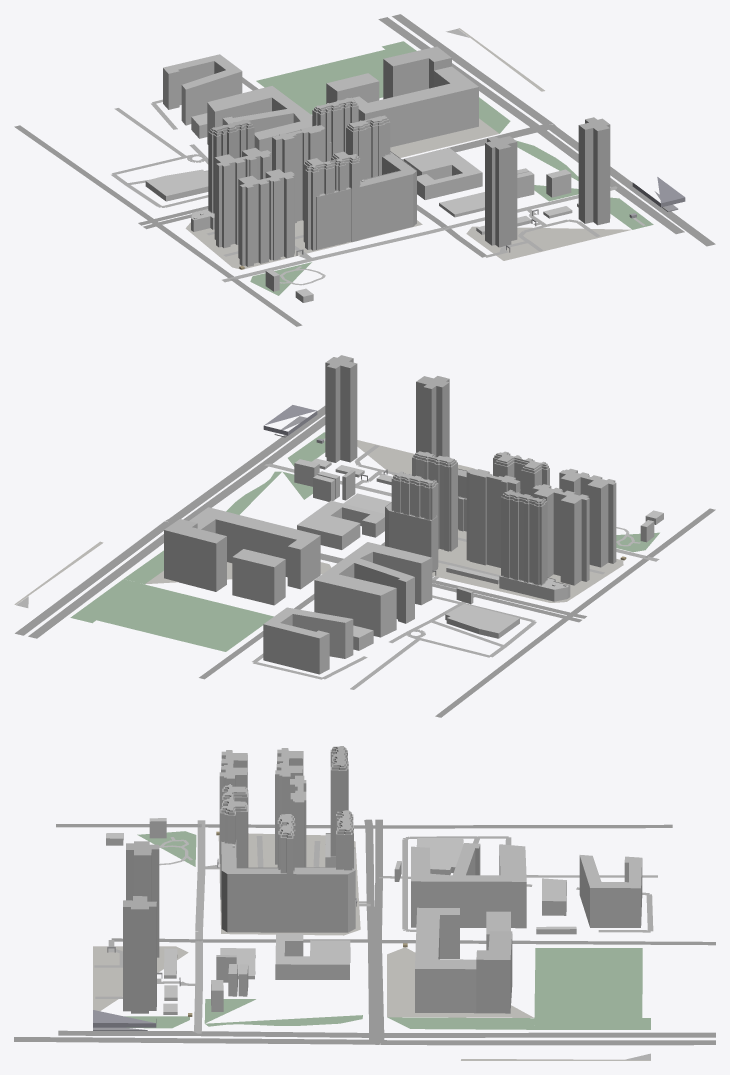
3 views of the same model, one above another, from view 1: azimuth 30°, elevation 25°; view 2: azimuth 150°, elevation 25°; view 3: azimuth 270°, elevation 25° (orthographic). The views are drawn at different scales.
Bounding box in the file's own units: 508 × 110 × 629.
